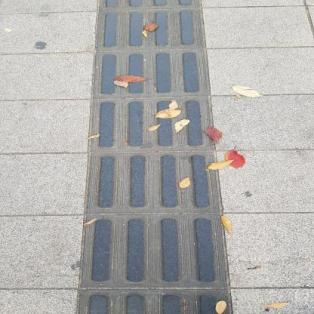Podoctatil: (58, 0, 252, 313)
